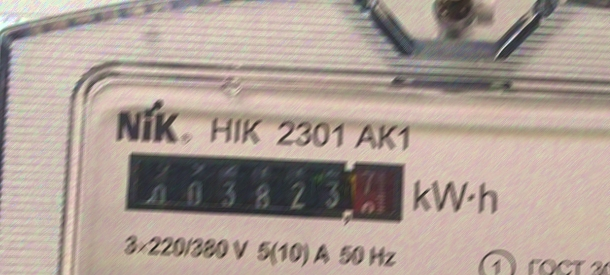0: (184, 176, 205, 203), (150, 179, 169, 202)
2: (289, 177, 309, 209)
3: (324, 177, 343, 207), (220, 176, 239, 205)
7: (361, 168, 378, 196)
8: (254, 179, 272, 207)
9: (153, 158, 171, 177)
screen: (120, 146, 409, 225)
